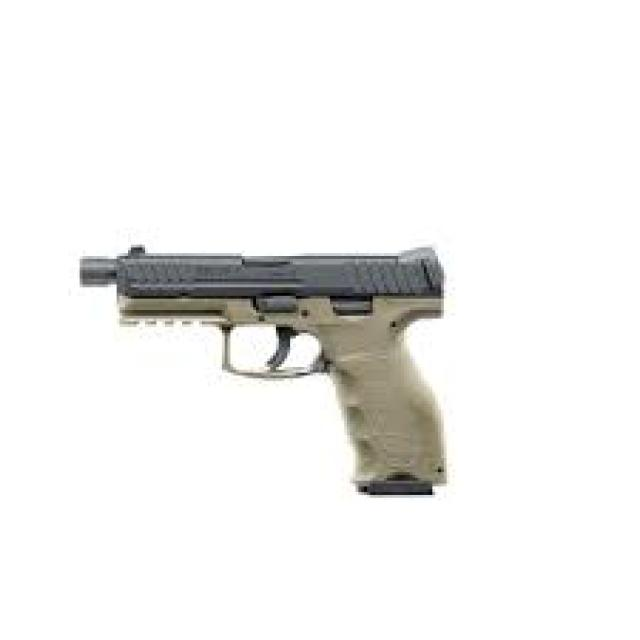pistol: (74, 236, 460, 502)
